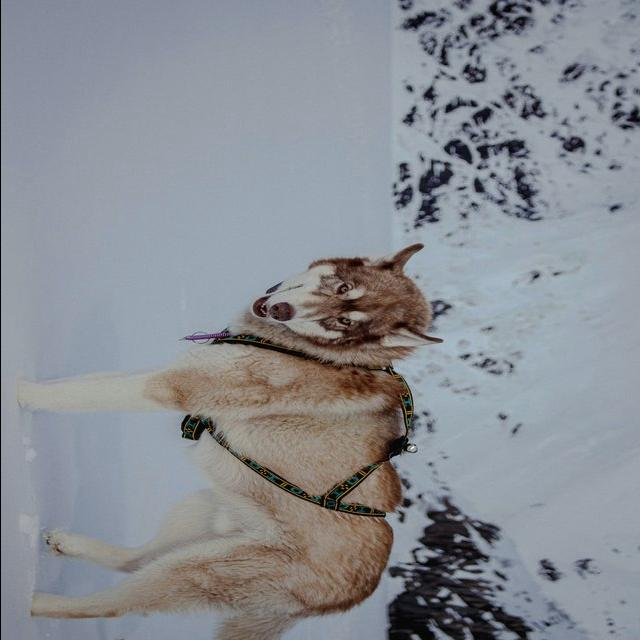husky: (16, 244, 444, 640)
